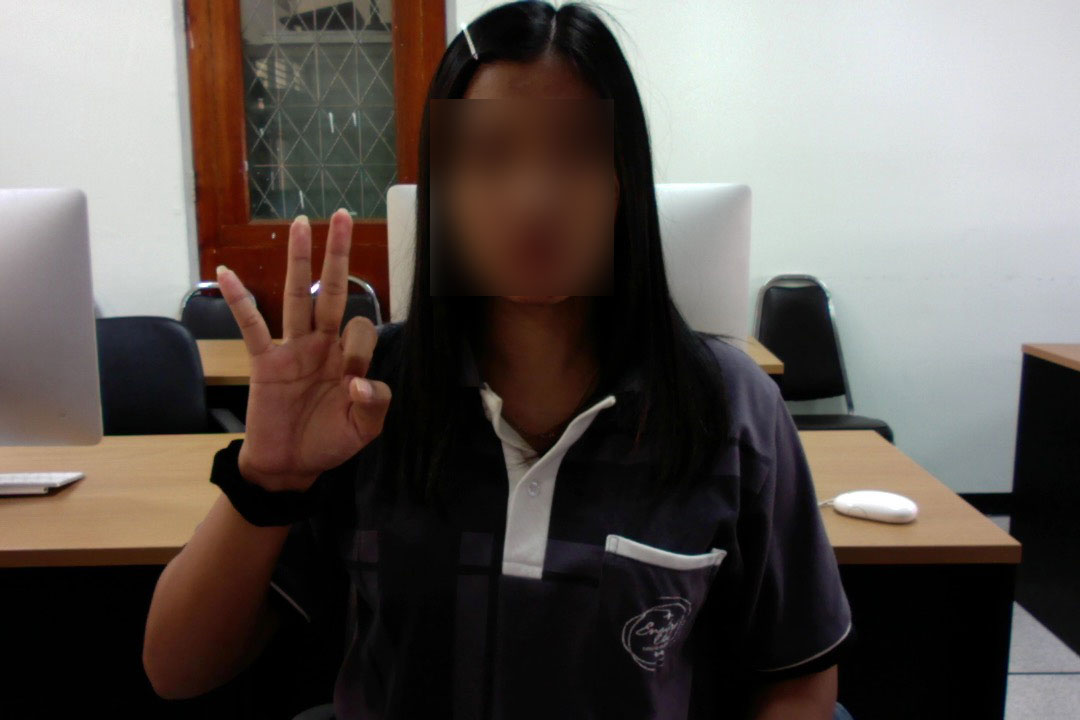for: (205, 200, 395, 503)
